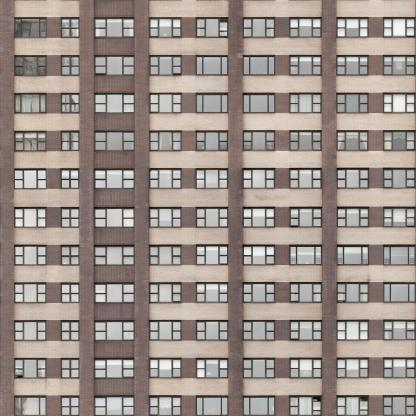Building Outline: (0, 1, 416, 416)
Facade: (0, 1, 416, 416)
Floor: (1, 203, 416, 239), (1, 279, 416, 314), (1, 241, 416, 276), (1, 127, 416, 162), (1, 89, 416, 124), (1, 51, 416, 86), (1, 354, 416, 388), (1, 317, 416, 351), (1, 165, 416, 199), (1, 14, 416, 48), (1, 391, 416, 416), (1, 0, 416, 11)
Floor Slab: (1, 389, 416, 392), (1, 11, 416, 14), (1, 48, 416, 51), (1, 86, 416, 89), (1, 124, 416, 127), (1, 162, 416, 165), (1, 200, 416, 203), (1, 239, 416, 242), (1, 276, 416, 279), (1, 314, 416, 317), (1, 351, 416, 354)
Pillar: (80, 0, 150, 416), (228, 0, 243, 416), (322, 0, 337, 416), (0, 0, 14, 416), (275, 17, 290, 38), (369, 92, 384, 113), (369, 130, 384, 151), (369, 168, 384, 189), (369, 206, 384, 227), (369, 282, 384, 303), (369, 357, 384, 378), (369, 395, 384, 416), (275, 395, 290, 416), (275, 282, 290, 303), (275, 244, 290, 265), (275, 169, 290, 190), (275, 92, 290, 113), (369, 17, 384, 37), (369, 55, 384, 75), (369, 245, 384, 265), (369, 320, 384, 340), (275, 358, 290, 378), (275, 321, 290, 341), (275, 207, 290, 227), (275, 131, 290, 151), (275, 55, 290, 75)
Window: (94, 18, 134, 38), (94, 93, 134, 113), (94, 55, 134, 75), (94, 321, 134, 341), (94, 283, 134, 303), (94, 396, 134, 416), (94, 358, 134, 378), (94, 170, 134, 190), (94, 132, 134, 152), (94, 245, 134, 265), (94, 207, 134, 227), (383, 18, 416, 38), (336, 18, 369, 38), (149, 18, 182, 38), (383, 93, 416, 113), (383, 55, 416, 75), (336, 93, 369, 113), (149, 93, 182, 113), (149, 55, 182, 75), (336, 55, 369, 75), (383, 321, 416, 341), (336, 321, 369, 341), (383, 283, 416, 303), (336, 283, 369, 303), (149, 321, 182, 341), (149, 283, 182, 303), (383, 358, 416, 378), (149, 396, 182, 416), (149, 358, 182, 378), (383, 396, 416, 416), (383, 170, 416, 190), (336, 170, 369, 190), (383, 132, 416, 152), (336, 132, 369, 152), (149, 170, 182, 190), (149, 132, 182, 152), (383, 245, 416, 265), (383, 207, 416, 227), (336, 245, 369, 265), (149, 245, 182, 265), (149, 207, 182, 227), (336, 207, 369, 227), (336, 358, 369, 378), (336, 396, 369, 416), (14, 18, 46, 38), (196, 18, 228, 38), (290, 18, 322, 38), (243, 18, 275, 38), (14, 93, 46, 113), (196, 93, 228, 113), (290, 93, 322, 113), (243, 93, 275, 113), (14, 55, 46, 75), (196, 55, 228, 75), (290, 55, 322, 75), (243, 55, 275, 75), (14, 321, 46, 341), (196, 321, 228, 341), (290, 321, 322, 341), (243, 321, 275, 341), (14, 283, 46, 303), (196, 283, 228, 303), (290, 283, 322, 303), (243, 283, 275, 303), (14, 396, 46, 416), (196, 396, 228, 416), (290, 396, 322, 416), (243, 396, 275, 416), (14, 358, 46, 378), (196, 358, 228, 378), (290, 358, 322, 378), (243, 358, 275, 378), (14, 170, 46, 190), (196, 170, 228, 190), (290, 170, 322, 190), (243, 170, 275, 190), (14, 132, 46, 152), (196, 132, 228, 152), (290, 132, 322, 152), (243, 132, 275, 152), (14, 245, 46, 265), (196, 245, 228, 265), (290, 245, 322, 265), (243, 245, 275, 265), (14, 207, 46, 227), (196, 207, 228, 227), (290, 207, 322, 227), (243, 207, 275, 227), (61, 18, 79, 38), (61, 93, 79, 113), (61, 55, 79, 75), (61, 321, 79, 341), (61, 283, 79, 303), (61, 396, 79, 416), (61, 358, 79, 378), (61, 170, 79, 190), (61, 132, 79, 152), (61, 245, 79, 265), (61, 207, 79, 227)
